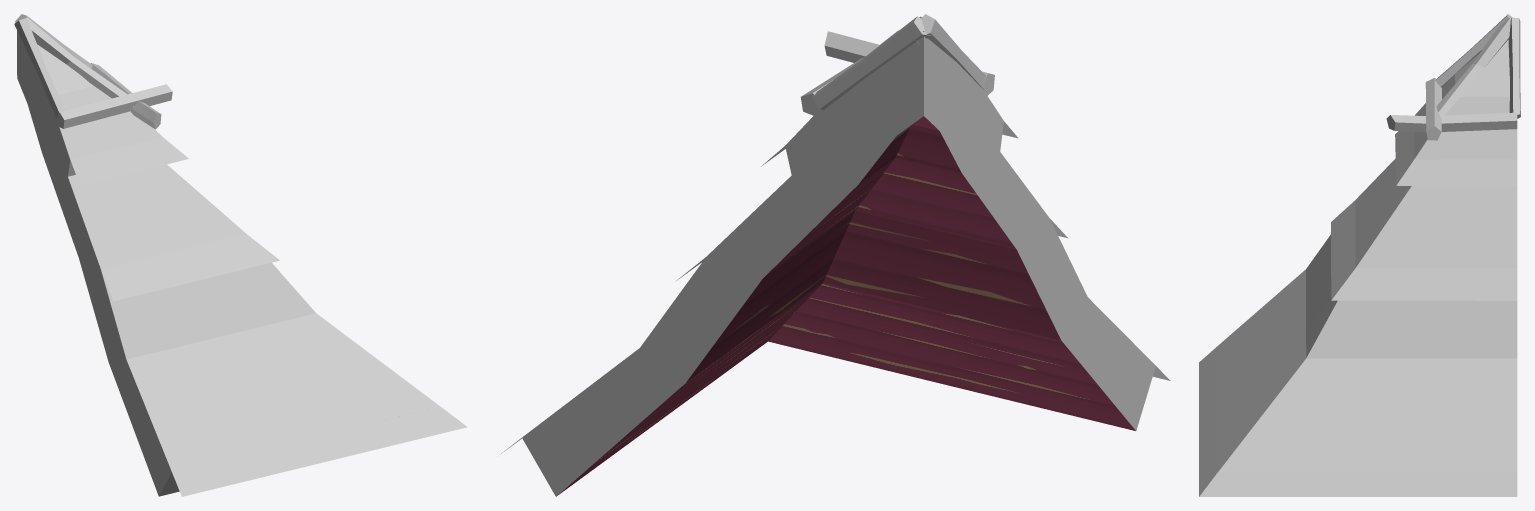
The model's file is SM_Bld_Roof_Thatch_Corner_Out_01.fbx.
3 views of the same model, side by side, from view 1: azimuth 30°, elevation 25°; view 2: azimuth 150°, elevation 25°; view 3: azimuth 270°, elevation 25° (orthographic). The views are drawn at different scales.
Parts seen in each view (by area): view 1: SM_Bld_Roof_Thatch_Corner_Out_01; view 2: SM_Bld_Roof_Thatch_Corner_Out_01; view 3: SM_Bld_Roof_Thatch_Corner_Out_01.
Boxes of the visible parts, box(x1,y1,x2,y2) form: SM_Bld_Roof_Thatch_Corner_Out_01: box(14, 14, 467, 496); SM_Bld_Roof_Thatch_Corner_Out_01: box(501, 14, 1170, 496); SM_Bld_Roof_Thatch_Corner_Out_01: box(1199, 14, 1520, 496).
Bounding box in the file's own units: 269 × 336 × 269.
